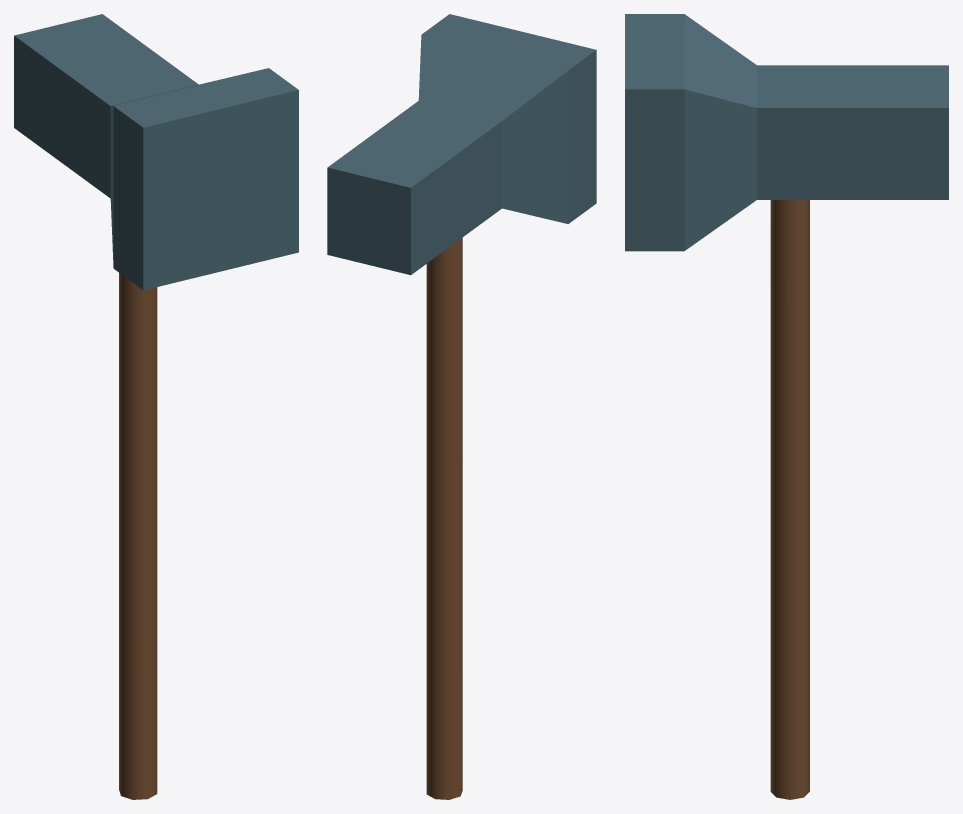
Rendered from SM_Prop_Hammer.fbx.
3 views of the same model, side by side, from view 1: azimuth 30°, elevation 25°; view 2: azimuth 150°, elevation 25°; view 3: azimuth 270°, elevation 25° (orthographic). The views are drawn at different scales.
Parts seen in each view (by area): view 1: SM_Prop_Hammer; view 2: SM_Prop_Hammer; view 3: SM_Prop_Hammer.
Part boxes in pixels (x1,y1,x2,y2): SM_Prop_Hammer: [14, 14, 298, 799]; SM_Prop_Hammer: [327, 14, 596, 799]; SM_Prop_Hammer: [625, 14, 948, 799].
Size of the model in its own units: 22.9 by 105 by 41.56.
